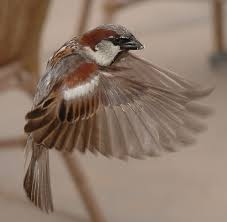hsparrow: (19, 22, 214, 216)
